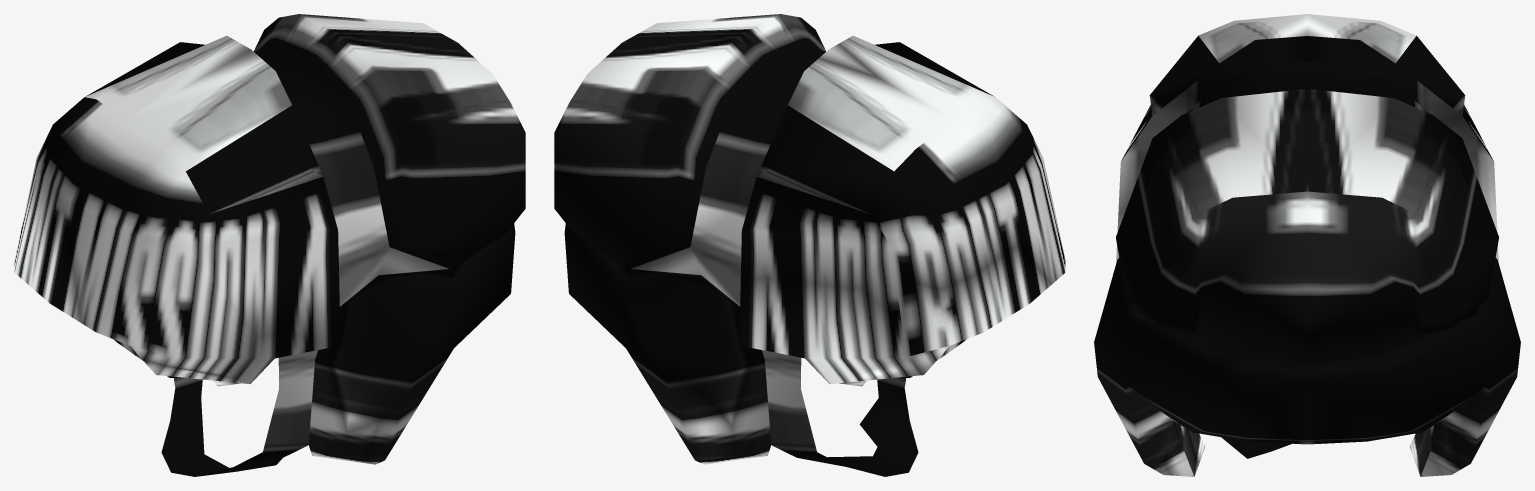
Rendered from helmetIcon.fbx.
3 views of the same model, side by side, from view 1: azimuth 30°, elevation 25°; view 2: azimuth 150°, elevation 25°; view 3: azimuth 270°, elevation 25° (orthographic). The views are drawn at different scales.
Parts seen in each view (by area): view 1: default; view 2: default; view 3: default.
Boxes of the visible parts, box(x1,y1,x2,y2) form: default: box(14, 14, 525, 476); default: box(554, 14, 1065, 476); default: box(1094, 14, 1520, 476).
Bounding box in the file's own units: 3.81 × 3.27 × 2.91.
Materials: 1 (1 with a texture image).
